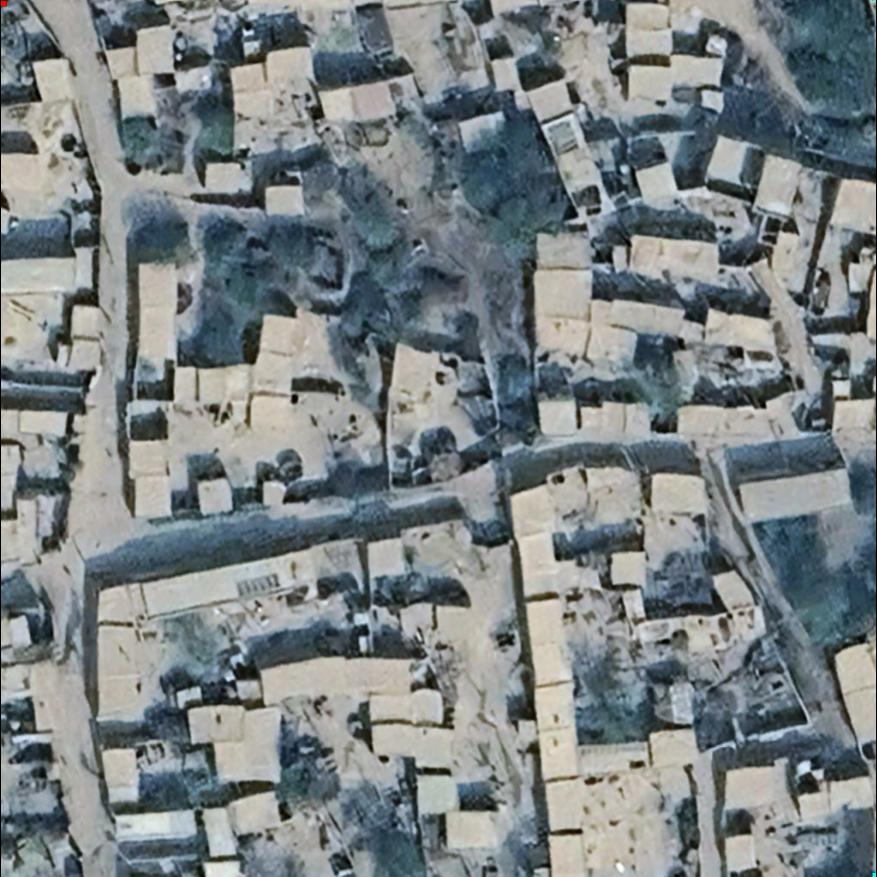Solarpanel: (236, 571, 282, 599)
